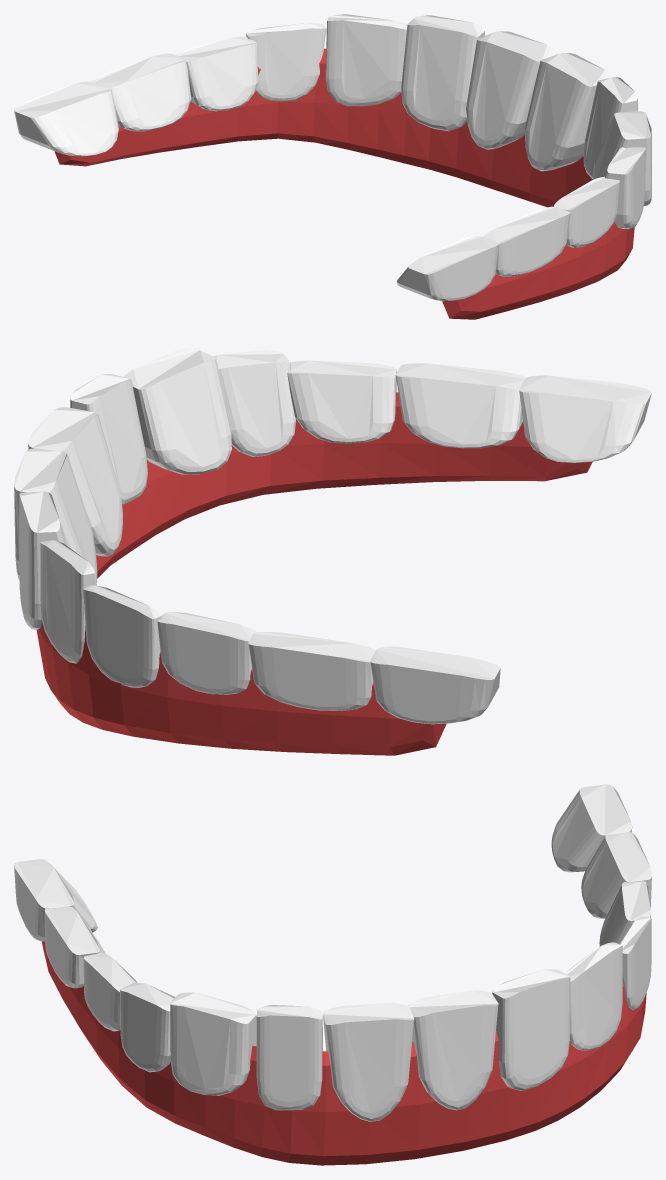
Rendered from bottom.obj.
3 renders of one model, top to bottom at view 1: azimuth 30°, elevation 25°; view 2: azimuth 150°, elevation 25°; view 3: azimuth 270°, elevation 25°, orthographic. The views are drawn at different scales.
Visible parts, largest first — view 1: Object.14, Object.6, Object.5, Object.15, Object.7, Object.12, Object.2, Object.9, Object.3, Object.11, Object.1, Object.10 (+3 smaller); view 2: Object.14, Object.8, Object.11, Object.1, Object.2, Object.12, Object.10, Object.13, Object.15, Object.3, Object.9, Object.4 (+3 smaller); view 3: Object.14, Object.15, Object.5, Object.6, Object.8, Object.4, Object.7, Object.12, Object.13, Object.2, Object.11, Object.1 (+3 smaller).
Boxes of the visible parts, x1,y1,x2,y2 form: Object.14: [54, 48, 634, 319]; Object.6: [401, 15, 484, 131]; Object.5: [466, 31, 556, 149]; Object.15: [525, 53, 611, 171]; Object.7: [325, 14, 407, 106]; Object.12: [14, 81, 118, 156]; Object.2: [92, 53, 191, 131]; Object.9: [246, 23, 326, 101]; Object.3: [177, 36, 258, 111]; Object.11: [397, 236, 498, 301]; Object.1: [483, 206, 570, 276]; Object.10: [553, 176, 619, 247]; Object.14: [36, 392, 592, 755]; Object.8: [123, 348, 231, 474]; Object.11: [519, 375, 651, 462]; Object.1: [395, 363, 526, 448]; Object.2: [248, 632, 375, 710]; Object.12: [370, 646, 500, 724]; Object.10: [287, 360, 396, 443]; Object.13: [213, 350, 295, 456]; Object.15: [28, 407, 122, 556]; Object.3: [157, 612, 257, 694]; Object.9: [83, 585, 161, 687]; Object.4: [70, 374, 147, 504]; Object.14: [41, 941, 646, 1165]; Object.15: [323, 1003, 414, 1121]; Object.5: [408, 990, 498, 1110]; Object.6: [492, 969, 570, 1090]; Object.8: [170, 992, 256, 1095]; Object.4: [256, 1005, 322, 1110]; Object.7: [565, 942, 622, 1050]; Object.12: [551, 784, 632, 872]; Object.13: [120, 982, 175, 1072]; Object.2: [581, 832, 651, 918]; Object.11: [14, 859, 97, 941]; Object.1: [44, 906, 105, 988].
Bounding box in the file's own units: 436105 × 131938 × 464826.
